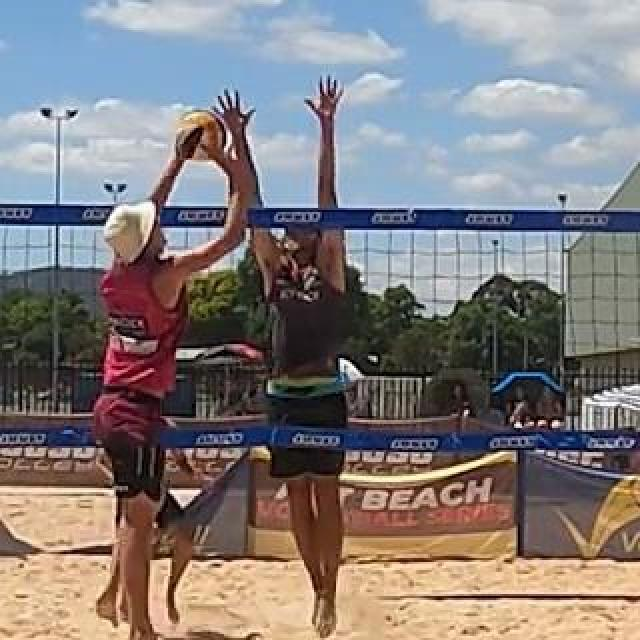volleyball: (175, 108, 227, 162)
